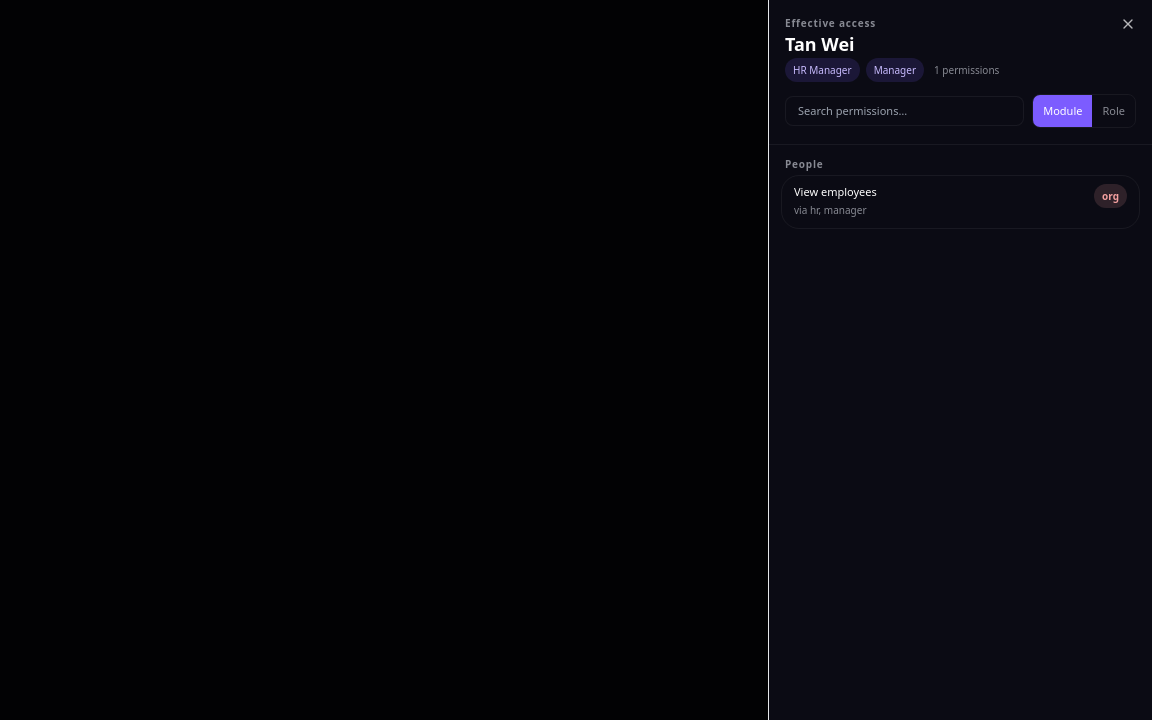
Test case: EffectiveAccessDrawer › regroups by role when the Role toggle is clicked, dimming duplicates
Expected: the text "View employees" is shown, [794,184,877,200]
What coordinates should you click on to do the following:
click the button "role"
I would click on:
 (1114, 111)
Its box is [1092,95,1135,127].
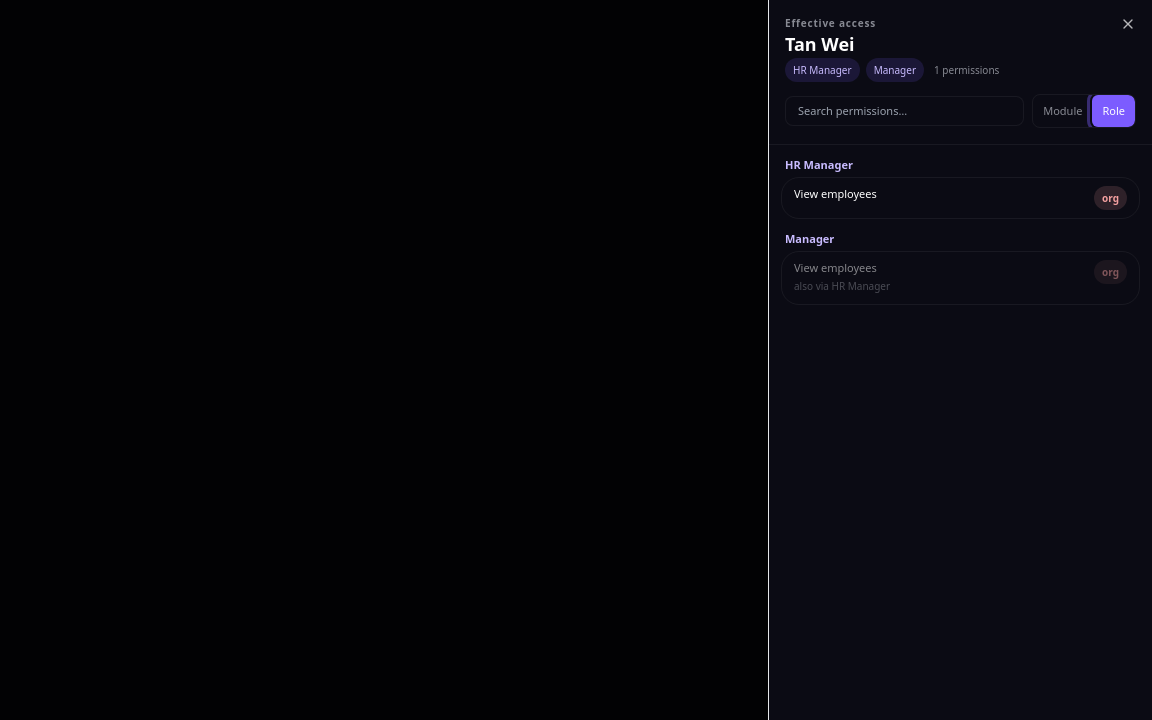
Expected: the text "also via HR Manager" is shown, [794,279,890,293]
